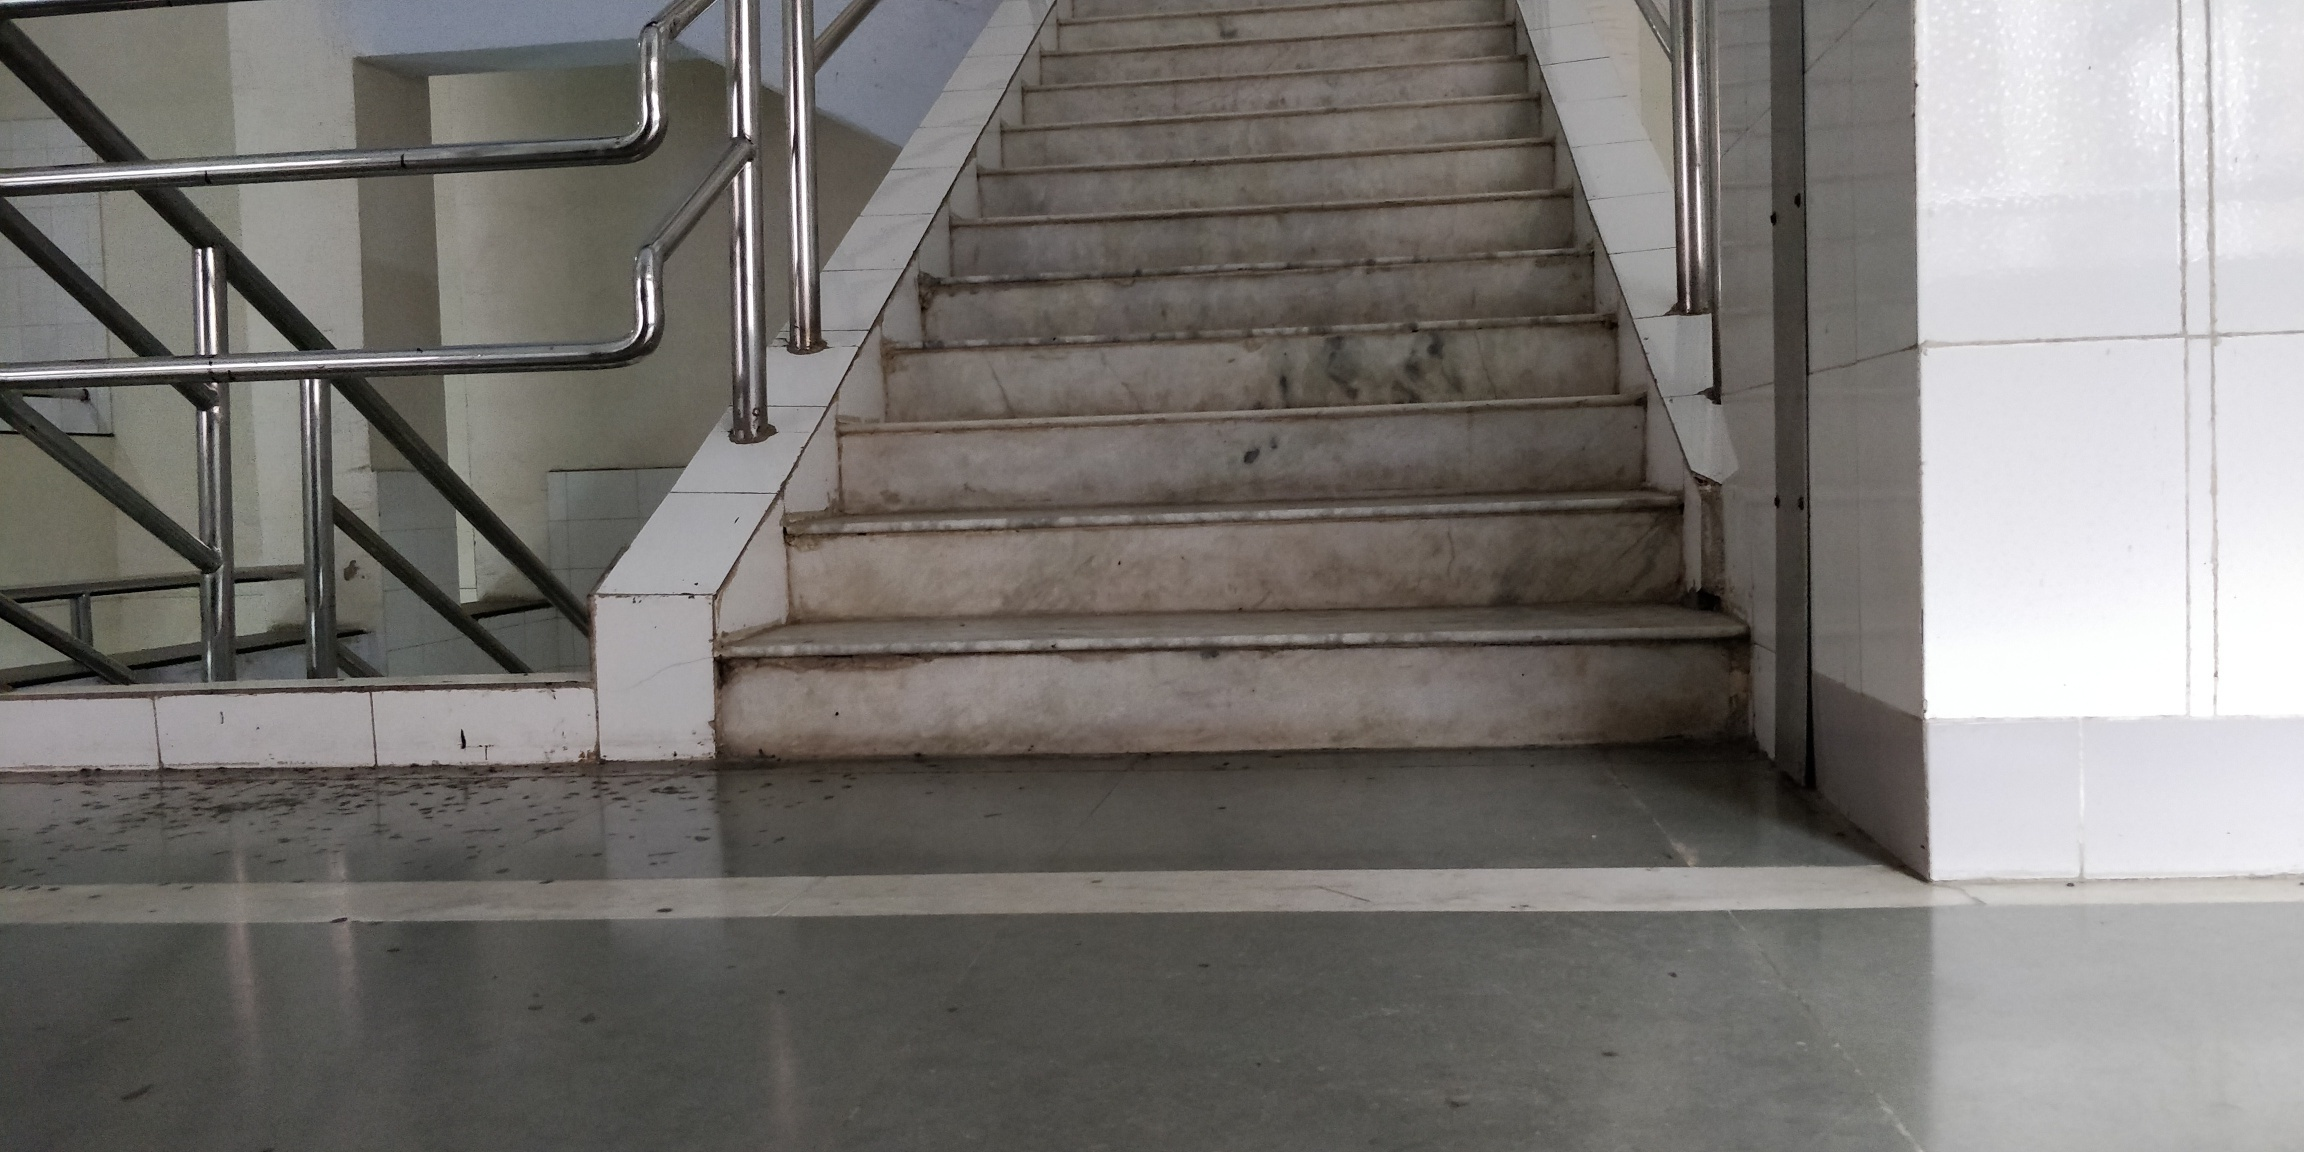stairs_up: (741, 10, 1794, 777)
